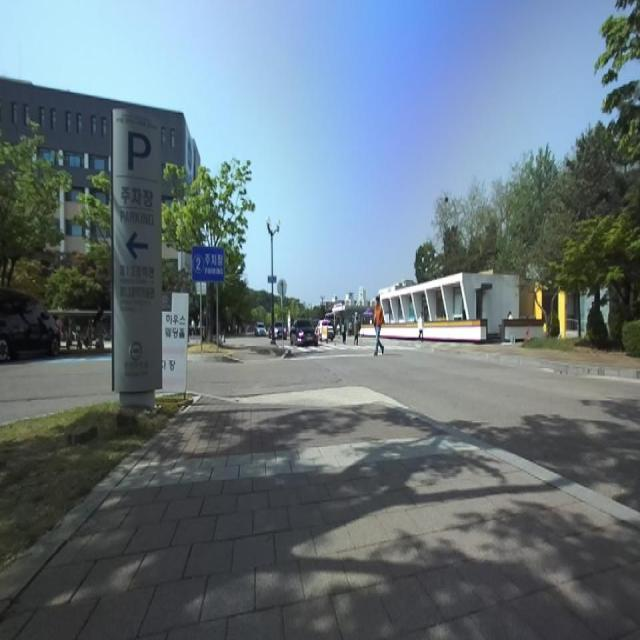sidewalk: (1, 401, 640, 639), (0, 400, 196, 620)
